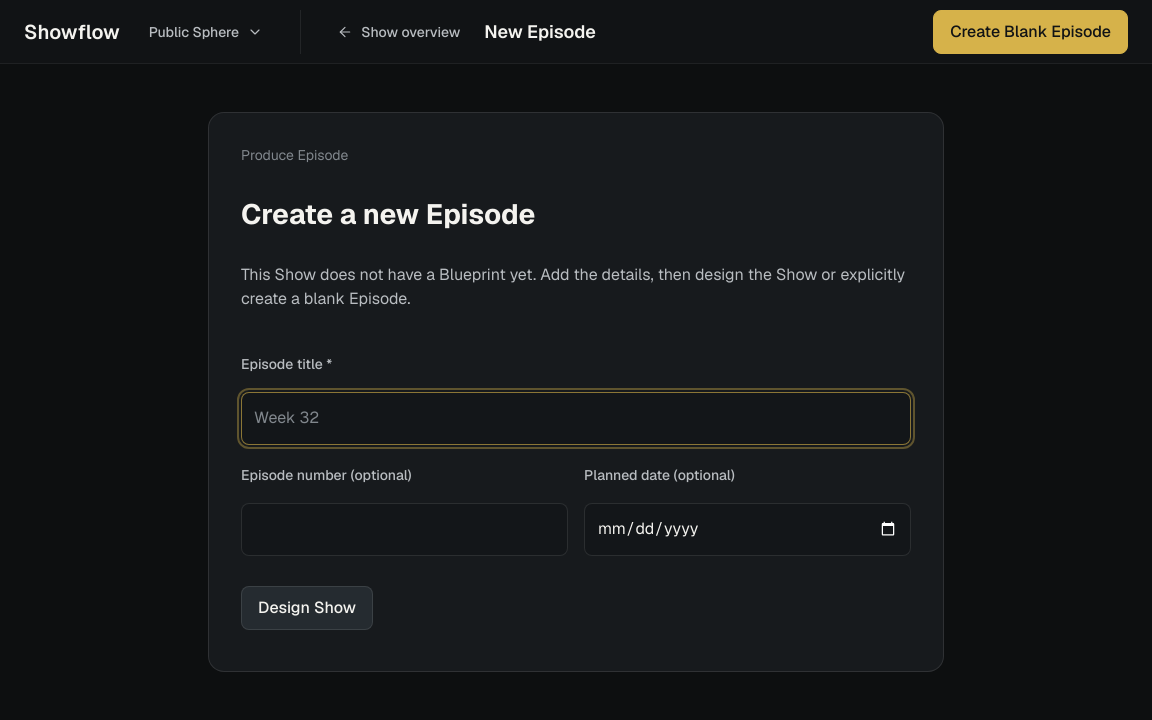
Test case: App › 6.T8 opens Design Show from an empty Blueprint choice
What coordinates should you click on to do the following:
click the button "Design Show"
I would click on:
 (307, 608)
Its box is [241,586,373,630].
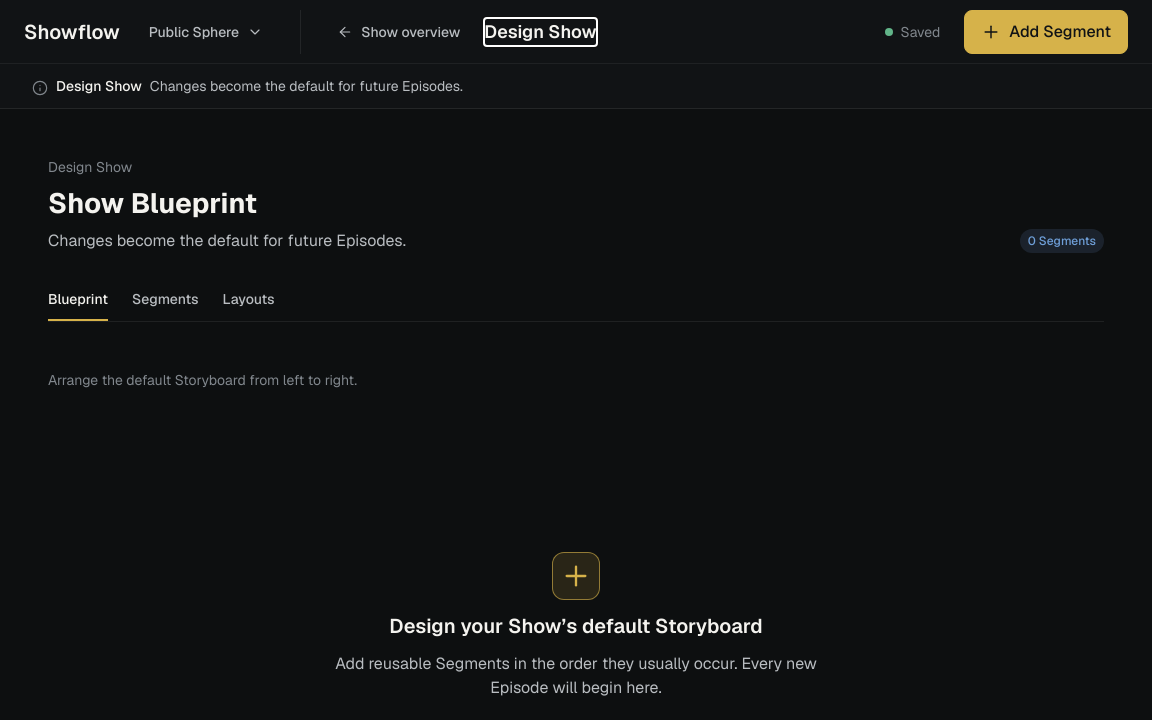
Check: the heading "Show Blueprint" is shown, box [48,185,257,221]
